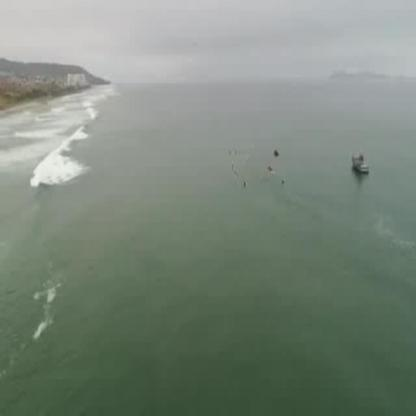Boat: (346, 149, 370, 180)
